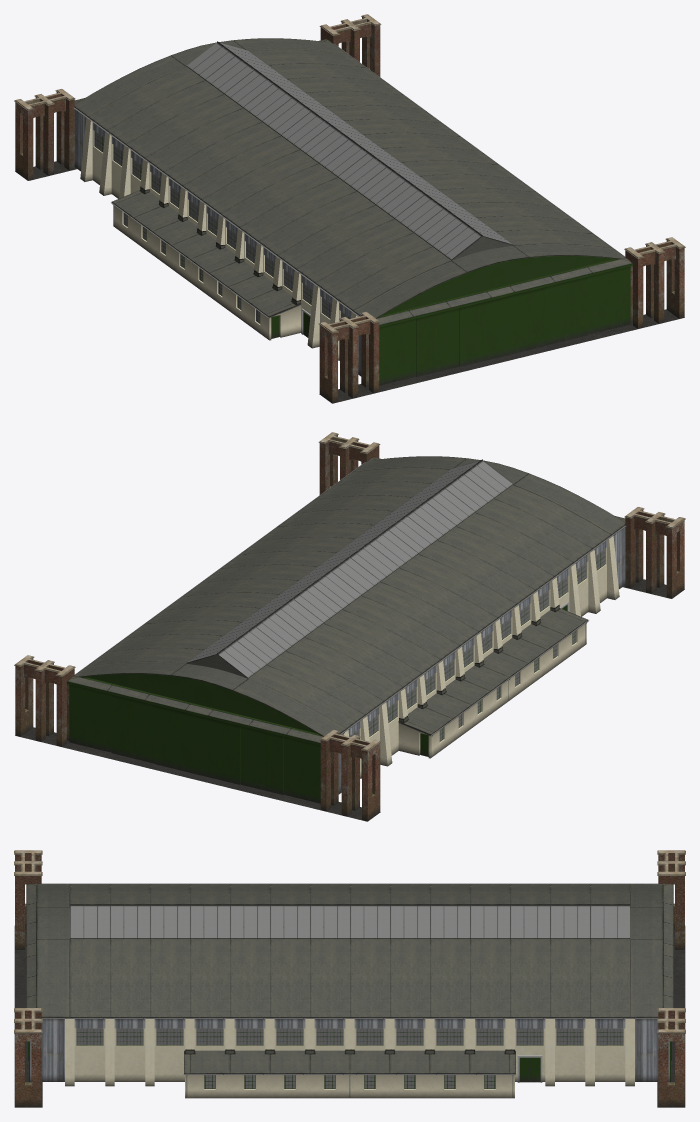
The model's file is airfield_hangar.glb.
The picture shows the model from 3 angles, top to bottom: view 1: azimuth 30°, elevation 25°; view 2: azimuth 150°, elevation 25°; view 3: azimuth 270°, elevation 25°; orthographic projection. The views are drawn at different scales.
Parts seen in each view (by area): view 1: old_hangar; view 2: old_hangar; view 3: old_hangar.
Part boxes in pixels (x1,y1,x2,y2): old_hangar: (14, 14, 685, 403); old_hangar: (14, 432, 685, 821); old_hangar: (14, 850, 685, 1107).
Bounding box in the file's own units: 35.1 × 10.06 × 54.64.
Materials: 1 (1 with a texture image).
